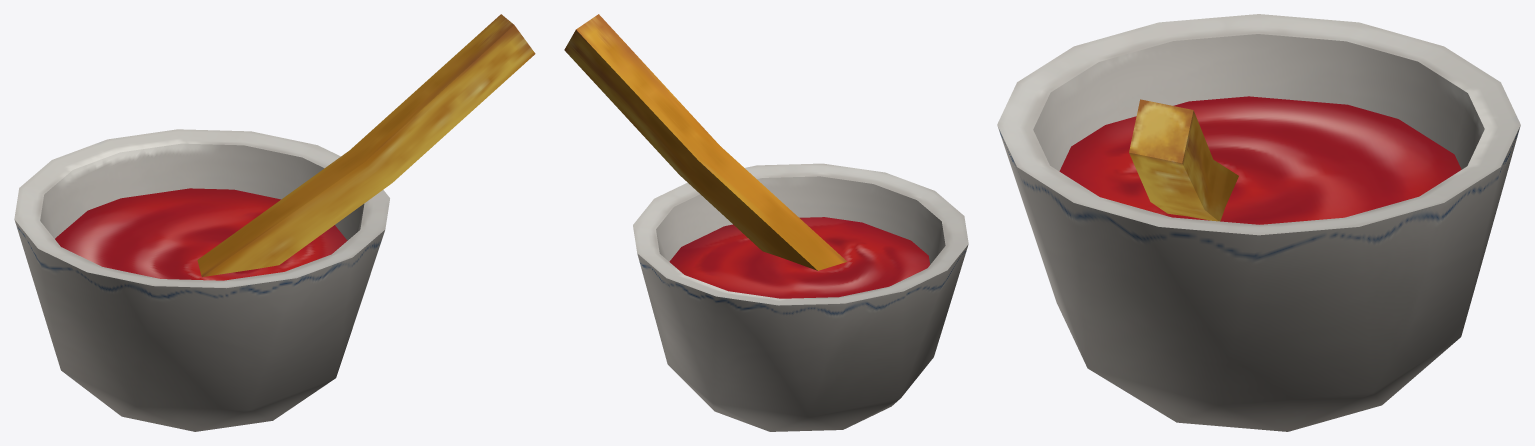
Rendered from friesbowlwithketchupandfrie.fbx.
3 renders of one model, left to right at view 1: azimuth 30°, elevation 25°; view 2: azimuth 150°, elevation 25°; view 3: azimuth 270°, elevation 25°, orthographic. The views are drawn at different scales.
Visible parts, largest first — view 1: friesbowlwithketchupandfrie, fries.006, friesketchup.001; view 2: friesbowlwithketchupandfrie, fries.006, friesketchup.001; view 3: friesbowlwithketchupandfrie, friesketchup.001, fries.006.
Boxes of the visible parts, x1=… form: friesbowlwithketchupandfrie: x1=14, y1=129, x2=389, y2=431; fries.006: x1=197, y1=14, x2=535, y2=276; friesketchup.001: x1=55, y1=188, x2=347, y2=280; friesbowlwithketchupandfrie: x1=633, y1=163, x2=968, y2=431; fries.006: x1=564, y1=14, x2=846, y2=270; friesketchup.001: x1=669, y1=217, x2=929, y2=298; friesbowlwithketchupandfrie: x1=997, y1=14, x2=1520, y2=431; friesketchup.001: x1=1059, y1=96, x2=1461, y2=224; fries.006: x1=1129, y1=99, x2=1238, y2=221.
Bounding box in the file's own units: 22.07 × 15.13 × 15.87.
